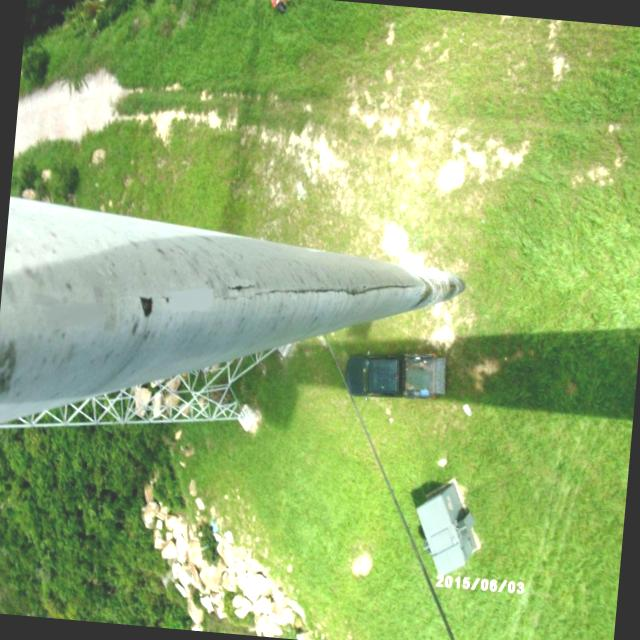crack: (225, 272, 417, 317)
surface_peeling: (134, 291, 159, 319)
